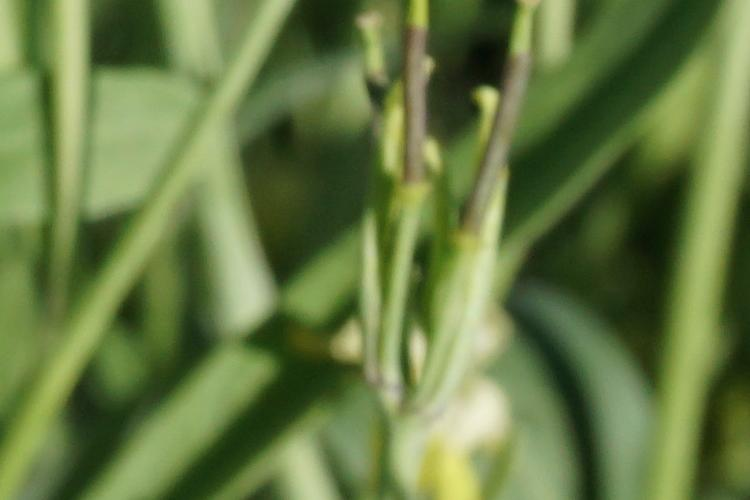pod: (472, 14, 542, 251), (399, 12, 442, 196)
